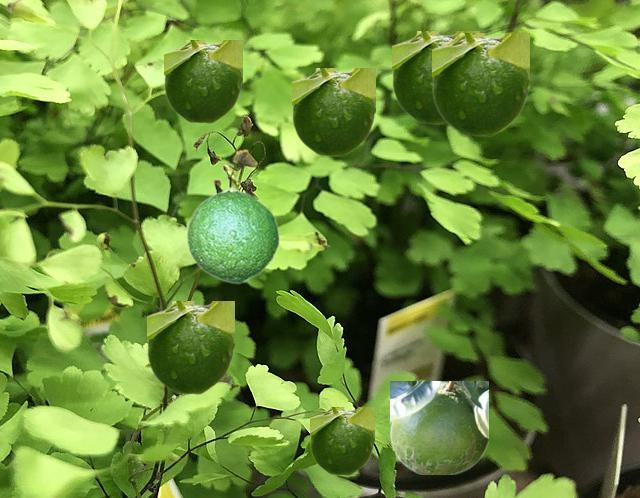dalandan: (432, 33, 528, 135), (185, 186, 279, 283), (390, 381, 487, 473), (392, 31, 478, 123), (147, 301, 233, 393), (292, 68, 374, 155), (164, 40, 241, 122), (310, 407, 373, 474)
